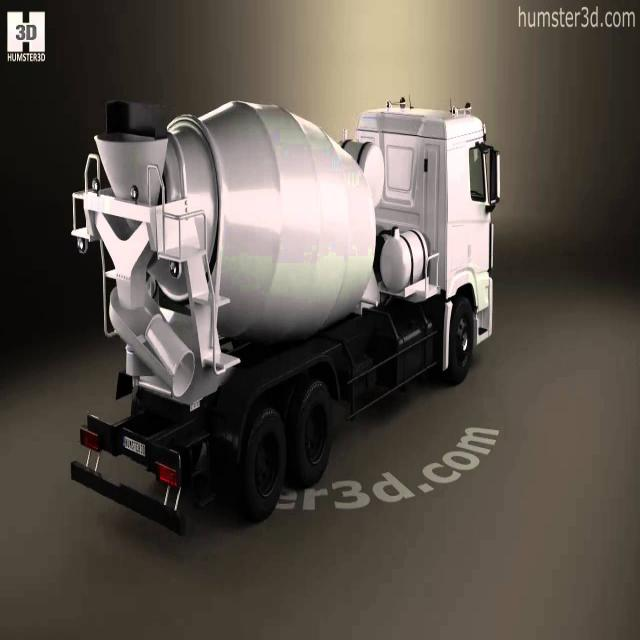Mixer Truck: (72, 103, 494, 541)
